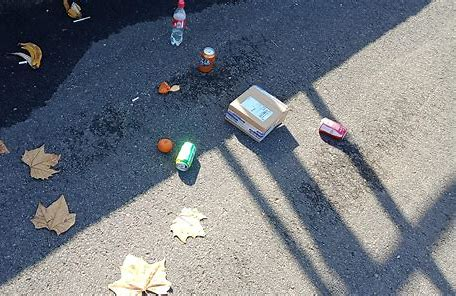garbage: (224, 74, 290, 145), (152, 131, 203, 174), (314, 111, 362, 151), (164, 1, 192, 53), (151, 79, 194, 98), (198, 48, 217, 80)
